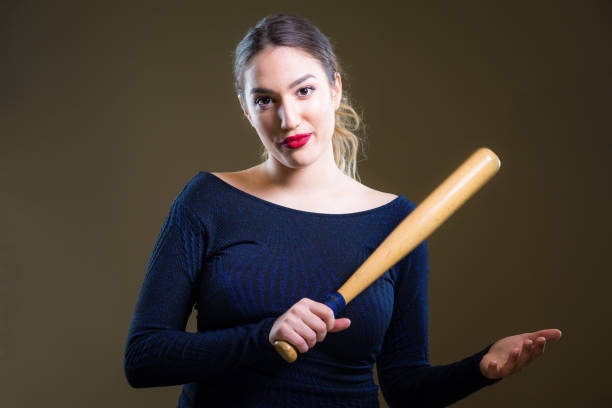bita: (301, 149, 501, 334)
